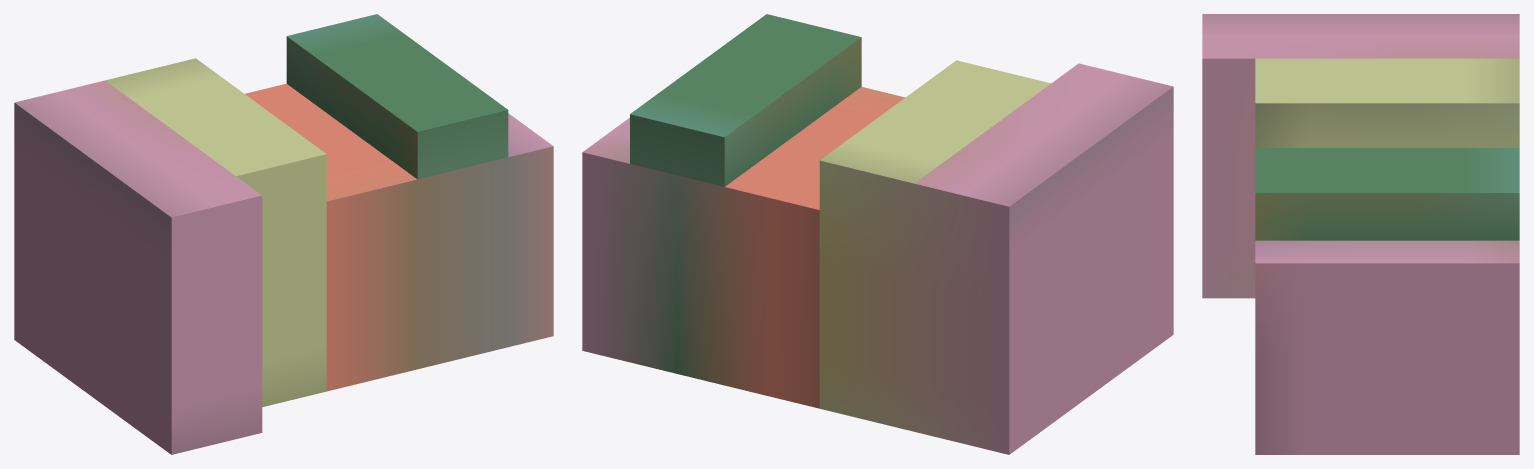
Rendered from Book5Pieces_01.obj.
3 renders of one model, left to right at view 1: azimuth 30°, elevation 25°; view 2: azimuth 150°, elevation 25°; view 3: azimuth 270°, elevation 25°, orthographic. The views are drawn at different scales.
Visible parts, largest first — view 1: Book5Pieces_01; view 2: Book5Pieces_01; view 3: Book5Pieces_01.
Boxes of the visible parts, <box> form: Book5Pieces_01: <box>14,14,553,454</box>; Book5Pieces_01: <box>582,14,1173,454</box>; Book5Pieces_01: <box>1202,14,1519,454</box>.
Bounding box in the file's own units: 0.45 × 0.25 × 0.3.
